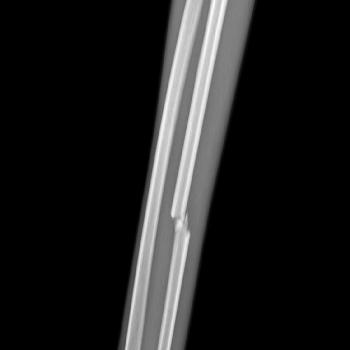Fracture: (168, 200, 193, 251)
